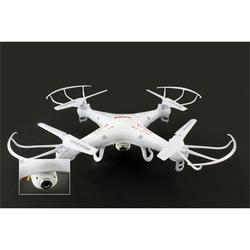drone: (6, 84, 238, 172)
